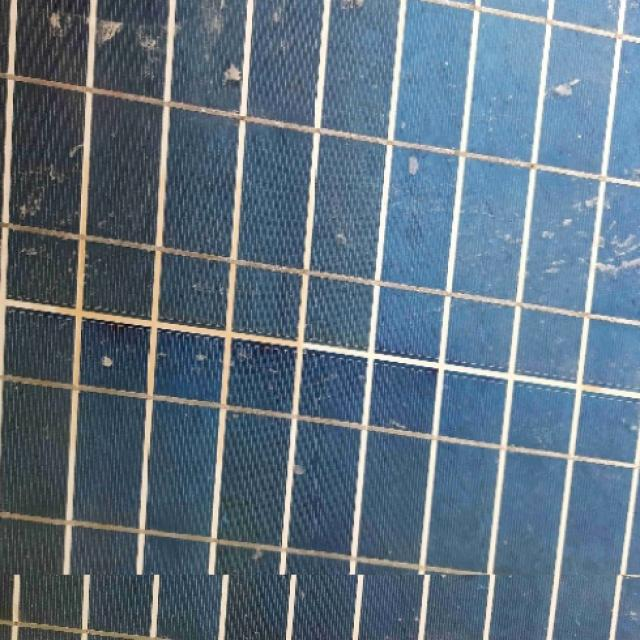Dirty: (0, 0, 640, 575)
